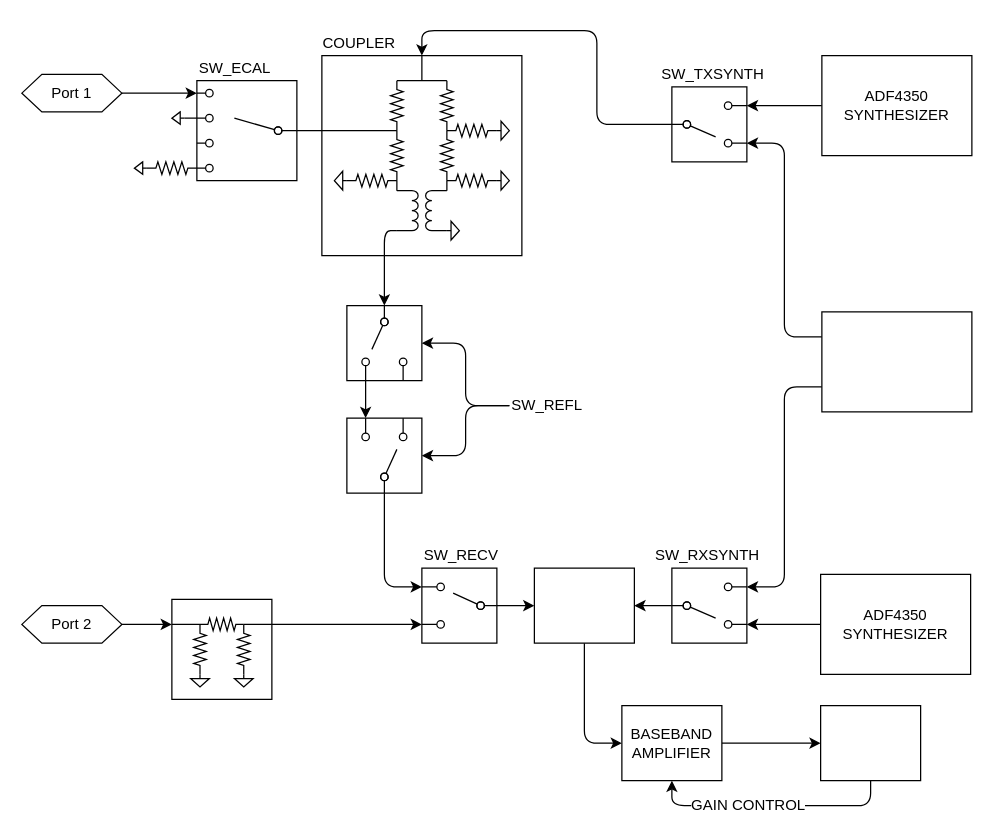
This 994x838 diagram has some shape labels left out. The centre of each missing label's shape, as x and y in pixels:
AD8342 MIXER: the point at 583,605
SI5351 SYNTHESIZER: the point at 896,361
STM32: the point at 870,742
